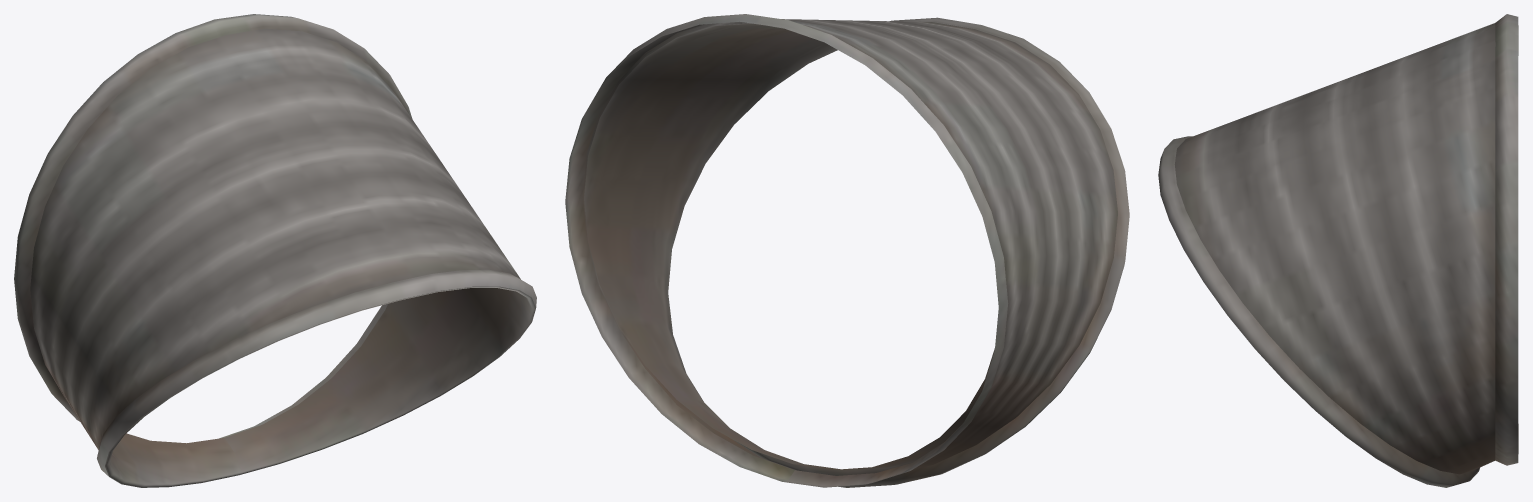
Rendered from circular_bend_half.gltf.
3 renders of one model, left to right at view 1: azimuth 30°, elevation 25°; view 2: azimuth 150°, elevation 25°; view 3: azimuth 270°, elevation 25°, orthographic. The views are drawn at different scales.
Visible parts, largest first — view 1: circular_bend_half; view 2: circular_bend_half; view 3: circular_bend_half.
Part boxes in pixels (x1,y1,x2,y2): circular_bend_half: [14, 14, 536, 487]; circular_bend_half: [565, 14, 1129, 487]; circular_bend_half: [1158, 14, 1518, 487].
Bounding box in the file's own units: 0.3713 × 0.3842 × 0.2959.
Materials: 1 (1 with a texture image).
